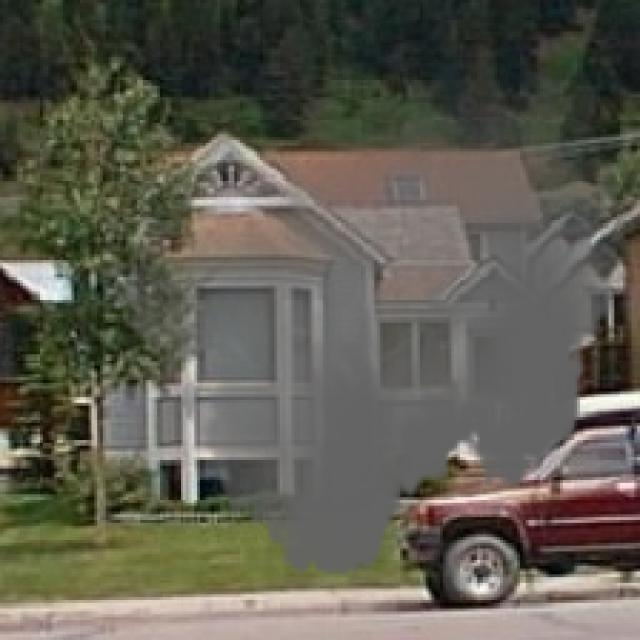smoke: (109, 32, 626, 597)
